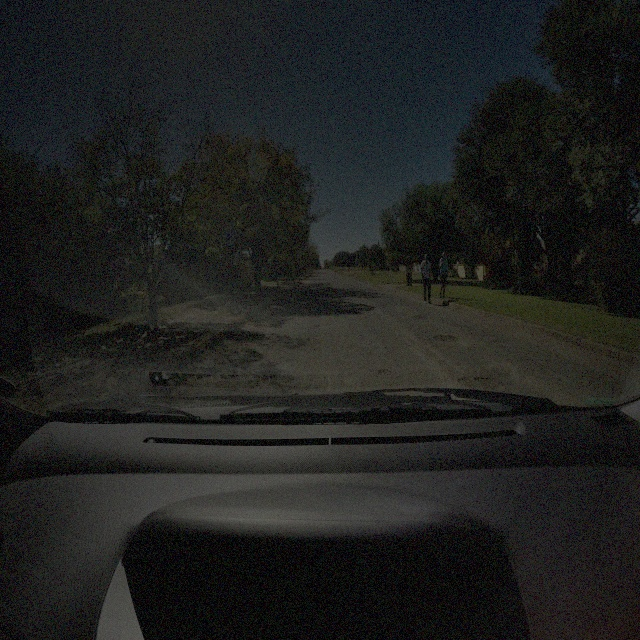pothole: (457, 373, 507, 396), (433, 333, 460, 345), (411, 312, 427, 322), (378, 366, 392, 377)
